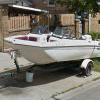Boat: (3, 26, 98, 80)
